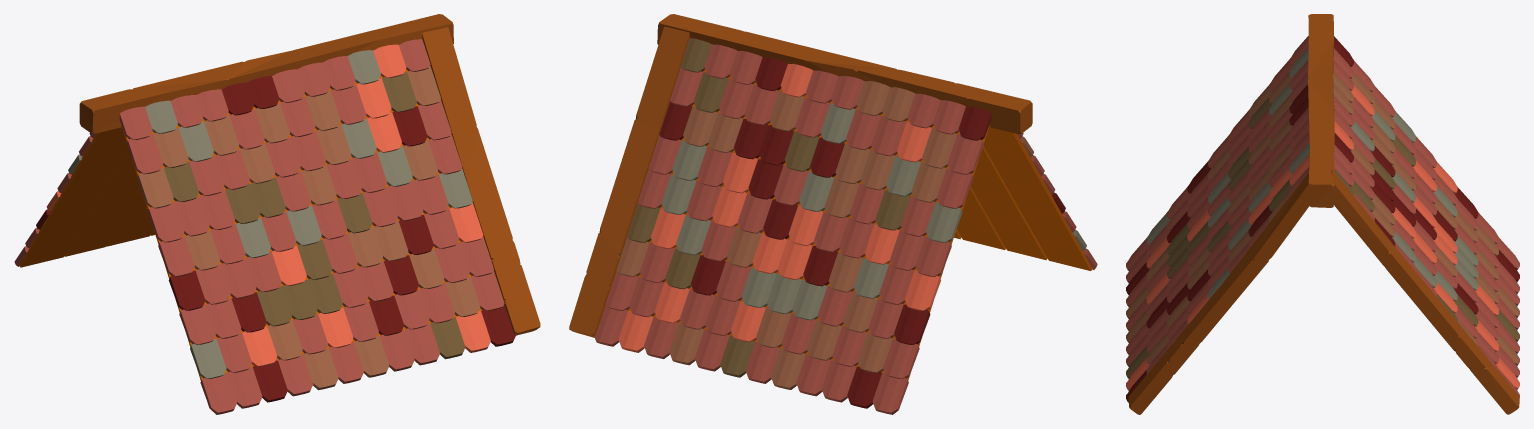
Rendered from NormalRoofOnePillar.fbx.
3 views of the same model, side by side, from view 1: azimuth 30°, elevation 25°; view 2: azimuth 150°, elevation 25°; view 3: azimuth 270°, elevation 25° (orthographic). The views are drawn at different scales.
Parts seen in each view (by area): view 1: NormalRoofOnePillar_LOD0; view 2: NormalRoofOnePillar_LOD0; view 3: NormalRoofOnePillar_LOD0.
Part boxes in pixels (left/top/right/bottom): NormalRoofOnePillar_LOD0: left=14, top=14, right=540, bottom=414; NormalRoofOnePillar_LOD0: left=569, top=14, right=1097, bottom=414; NormalRoofOnePillar_LOD0: left=1126, top=14, right=1519, bottom=414.
Size of what is drawn, in the model's own units: 2187 by 1410 by 2127.
